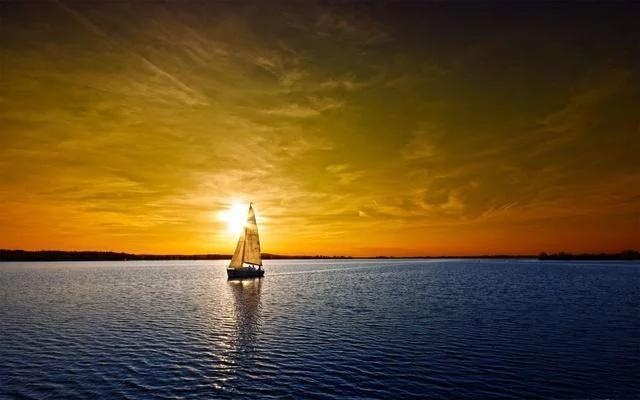fanchuan: (224, 202, 270, 280)
